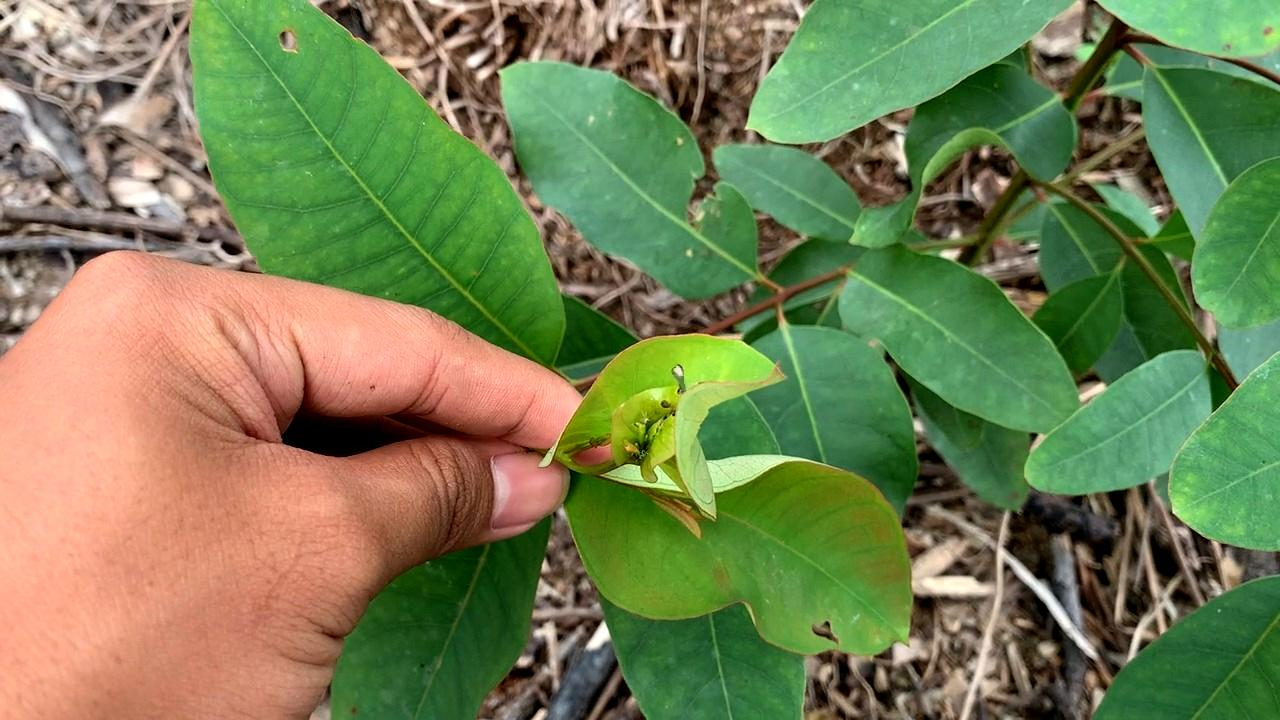Leaf Roller - Leaf: (532, 322, 805, 522)
